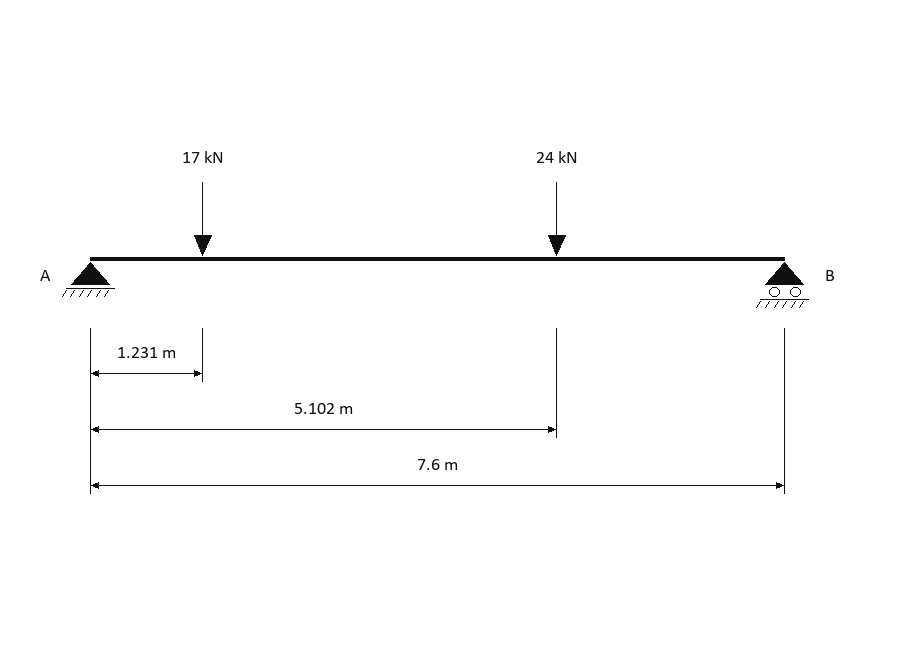pin_support: (62, 262, 115, 297)
point_load: (194, 182, 212, 256), (548, 182, 566, 256)
roller_support: (756, 262, 809, 308)
